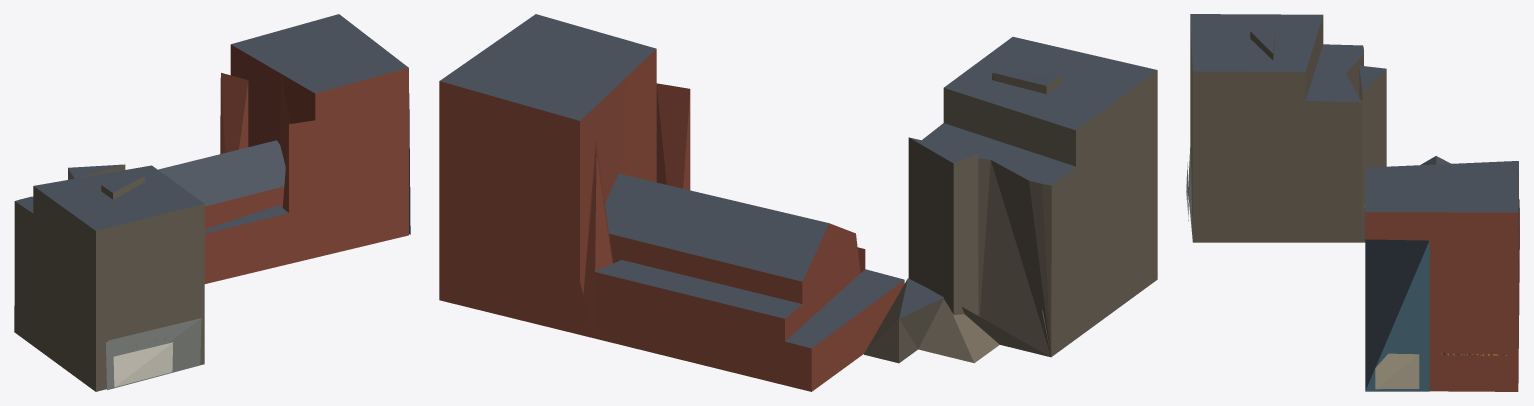
File: kriterion.lod2.glb
3 renders of one model, left to right at view 1: azimuth 30°, elevation 25°; view 2: azimuth 150°, elevation 25°; view 3: azimuth 270°, elevation 25°, orthographic. The views are drawn at different scales.
Parts seen in each view (by area): view 1: lod2; view 2: lod2; view 3: lod2.
Part boxes in pixels (left/top/right/bottom): lod2: left=14, top=14, right=410, bottom=391; lod2: left=439, top=14, right=1157, bottom=391; lod2: left=1186, top=14, right=1519, bottom=391.
Size of the model in its own units: 45.62 by 18.33 by 30.92.
